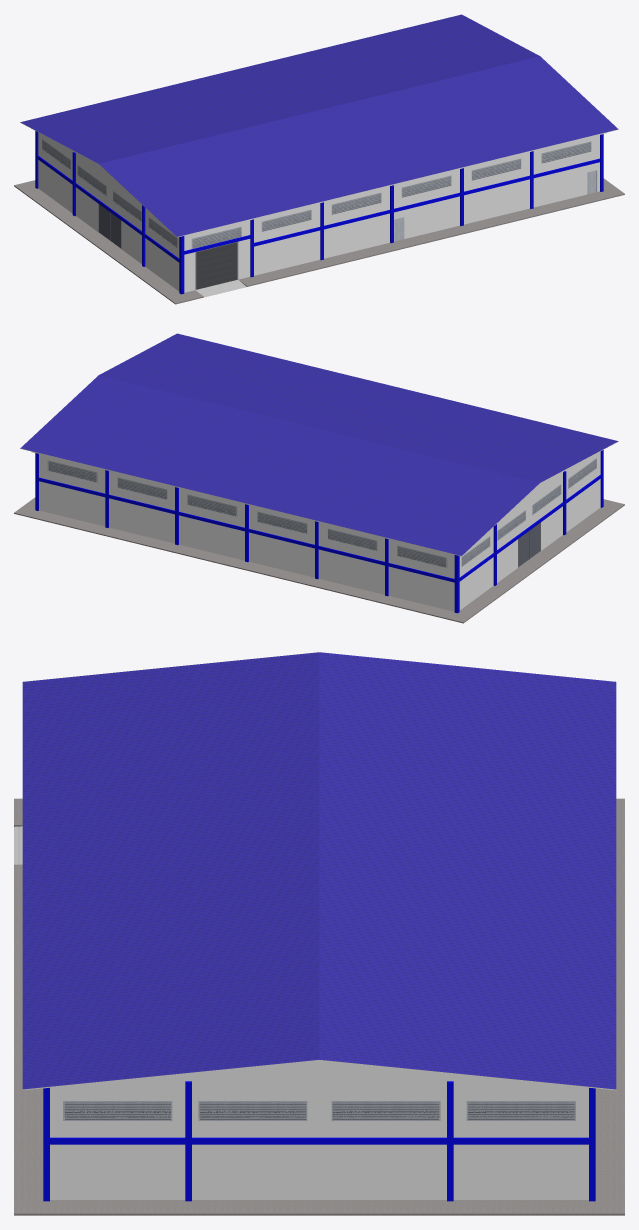
File: warehouse.FBX
3 renders of one model, top to bottom at view 1: azimuth 30°, elevation 25°; view 2: azimuth 150°, elevation 25°; view 3: azimuth 270°, elevation 25°, orthographic. The views are drawn at different scales.
Visible parts, largest first — view 1: Group_002; view 2: Group_002; view 3: Group_002.
Boxes of the visible parts, x1,y1,x2,y2 form: Group_002: (14,14,624,304); Group_002: (14,333,624,623); Group_002: (14,652,624,1215).
Size of the model in its own units: 1772 by 1102 by 303.
Materials: 12 (9 with a texture image).
